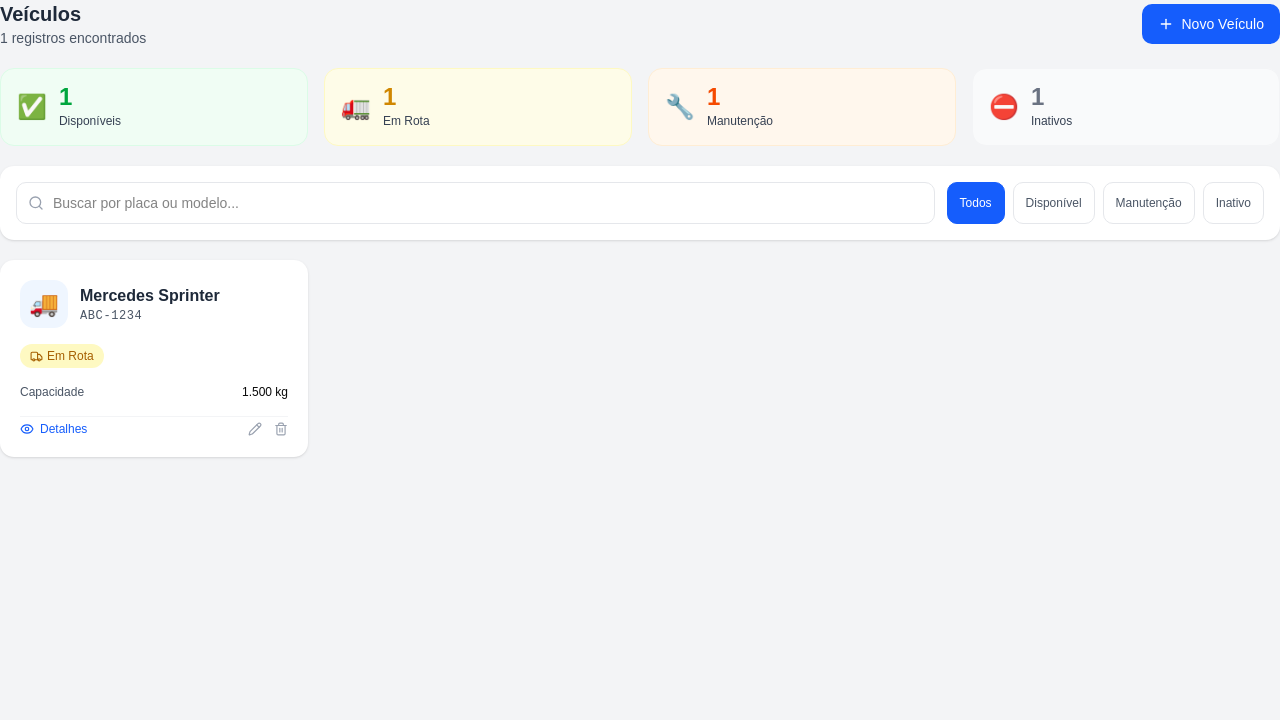
Test: Veiculos › abre o formulário em modo edição ao clicar em editar
Expected: the text "Mercedes Sprinter" is shown, [80,284,220,308]
Click the button named "Editar ABC-1234".
click(255, 429)  # box [248,422,262,436]
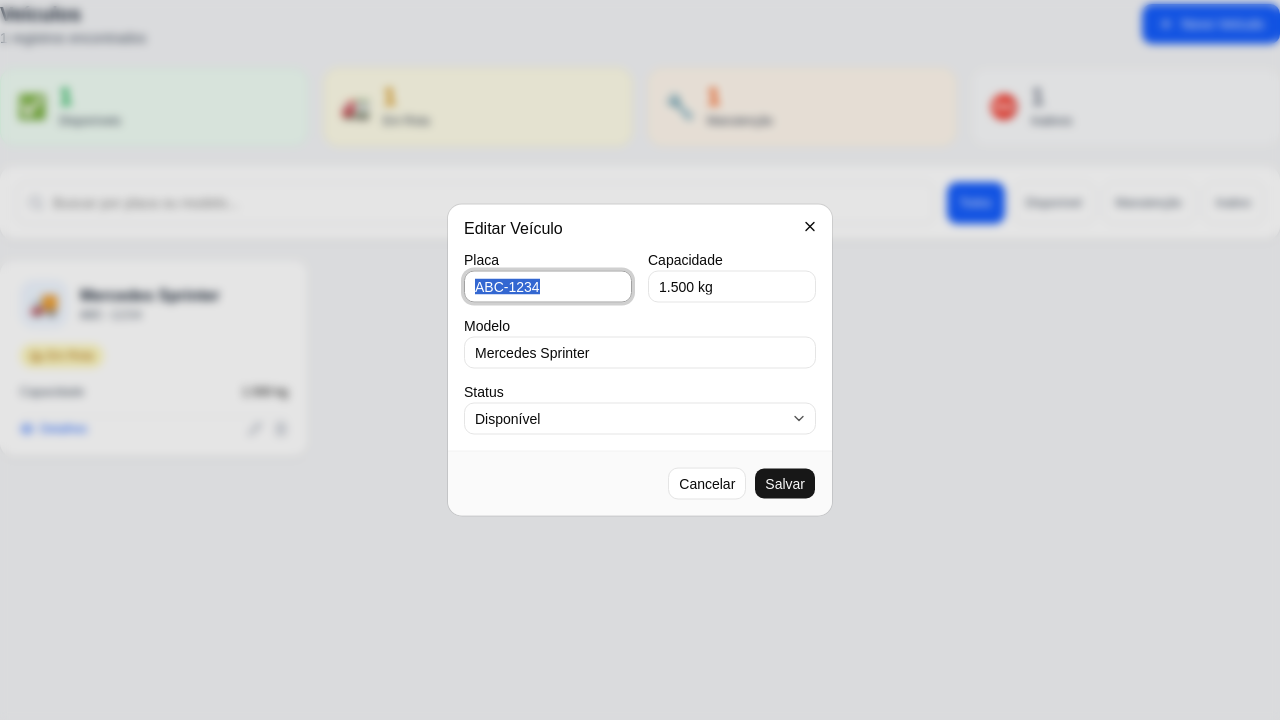
Result: the dialog "Editar Veículo" is shown at [448,204,832,516]
Result: the field showing "ABC-1234" is shown at [464,270,632,302]
